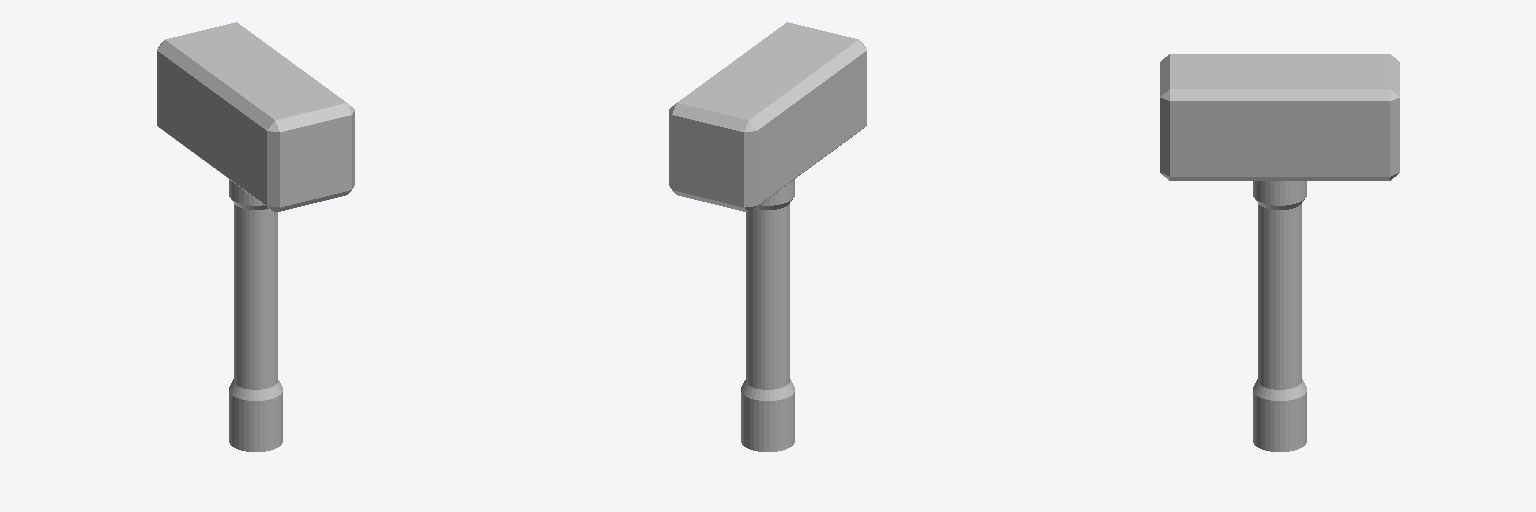
The model's file is Hammer.obj.
3 renders of one model, left to right at view 1: azimuth 30°, elevation 25°; view 2: azimuth 150°, elevation 25°; view 3: azimuth 270°, elevation 25°, orthographic.
Visible parts, largest first — view 1: Cube, Cylinder; view 2: Cube, Cylinder; view 3: Cube, Cylinder.
Boxes of the visible parts, box(x1,y1,x2,y2) form: Cube: box(157, 22, 354, 212); Cylinder: box(229, 179, 282, 451); Cube: box(669, 22, 866, 212); Cylinder: box(741, 179, 794, 451); Cube: box(1160, 54, 1399, 180); Cylinder: box(1253, 181, 1306, 451).
Bounding box in the file's own units: 4.61 × 18.43 × 10.83.